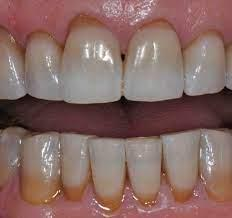Calculus: (90, 136, 130, 209), (164, 129, 203, 202), (126, 133, 164, 206)
